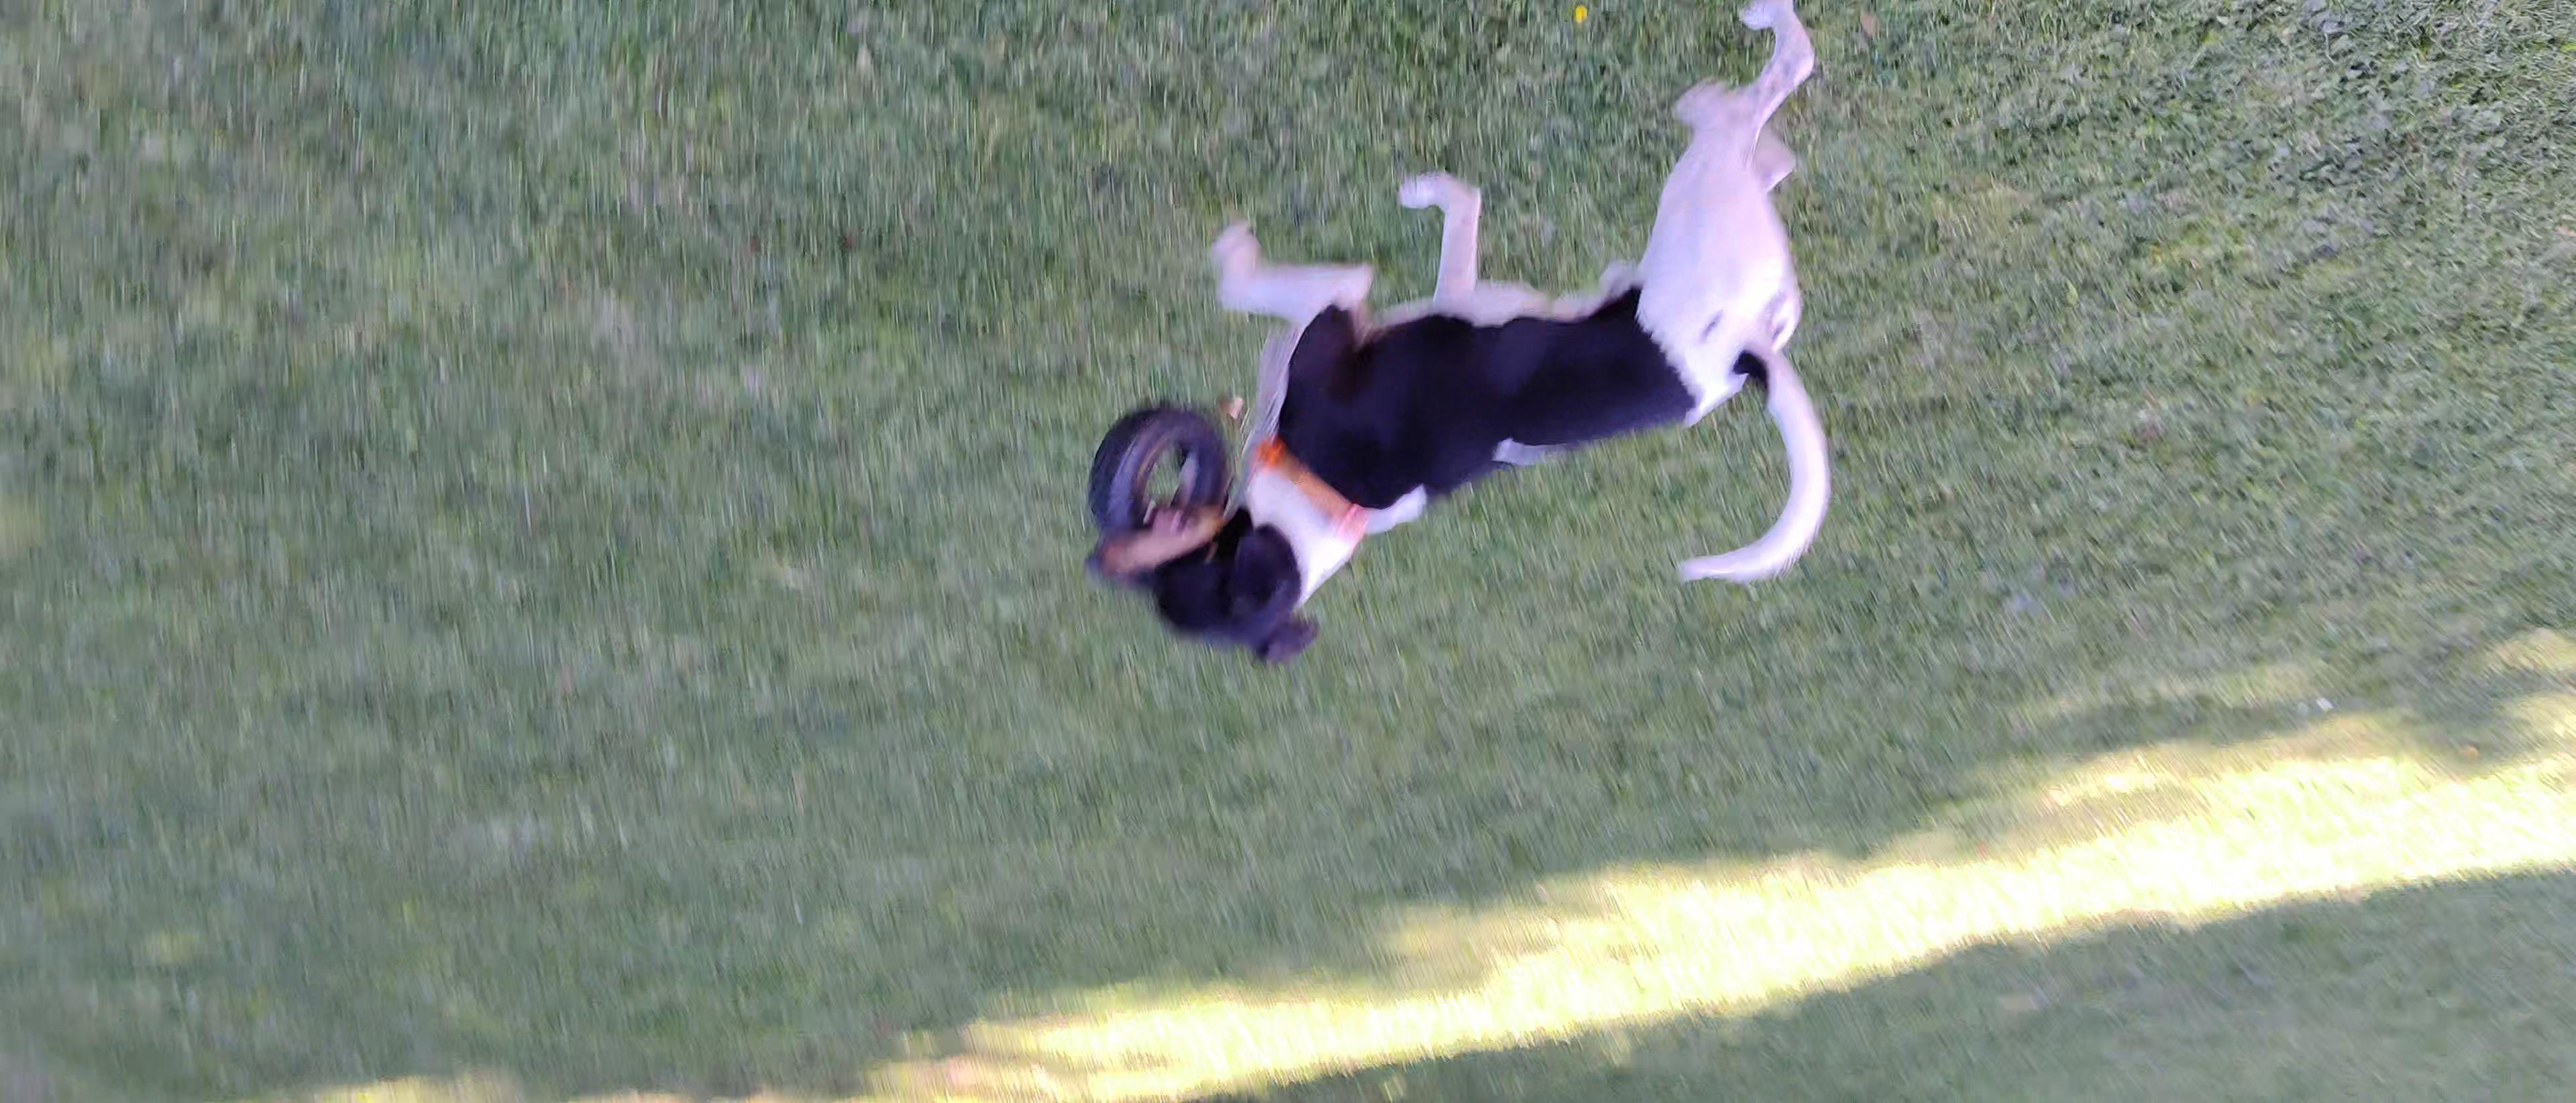Dog: (1073, 0, 1843, 667)
